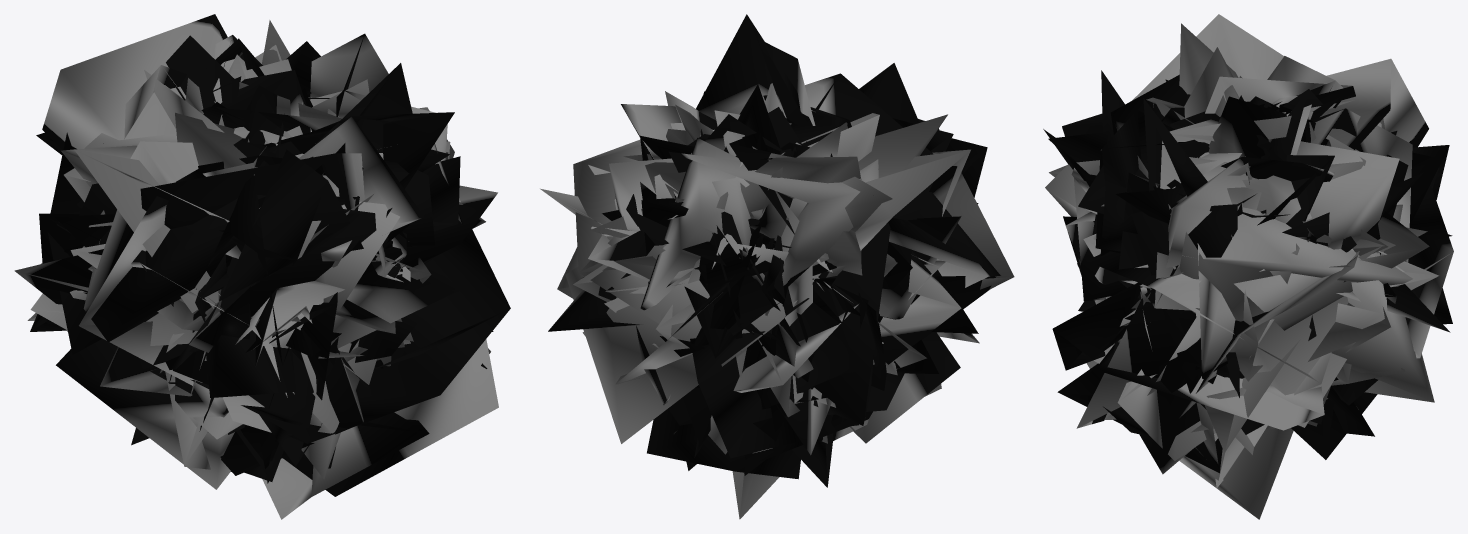
File: stars_orig.gltf
The picture shows the model from 3 angles, left to right: view 1: azimuth 30°, elevation 25°; view 2: azimuth 150°, elevation 25°; view 3: azimuth 270°, elevation 25°; orthographic projection. The views are drawn at different scales.
Visible parts, largest first — view 1: stars_orig; view 2: stars_orig; view 3: stars_orig.
Part boxes in pixels (x1=…): stars_orig: x1=14, y1=14, x2=510, y2=519; stars_orig: x1=540, y1=14, x2=1014, y2=519; stars_orig: x1=1043, y1=14, x2=1453, y2=519.
Size of the model in its own units: 607 by 668 by 557.
Materials: 1 (1 with a texture image).
